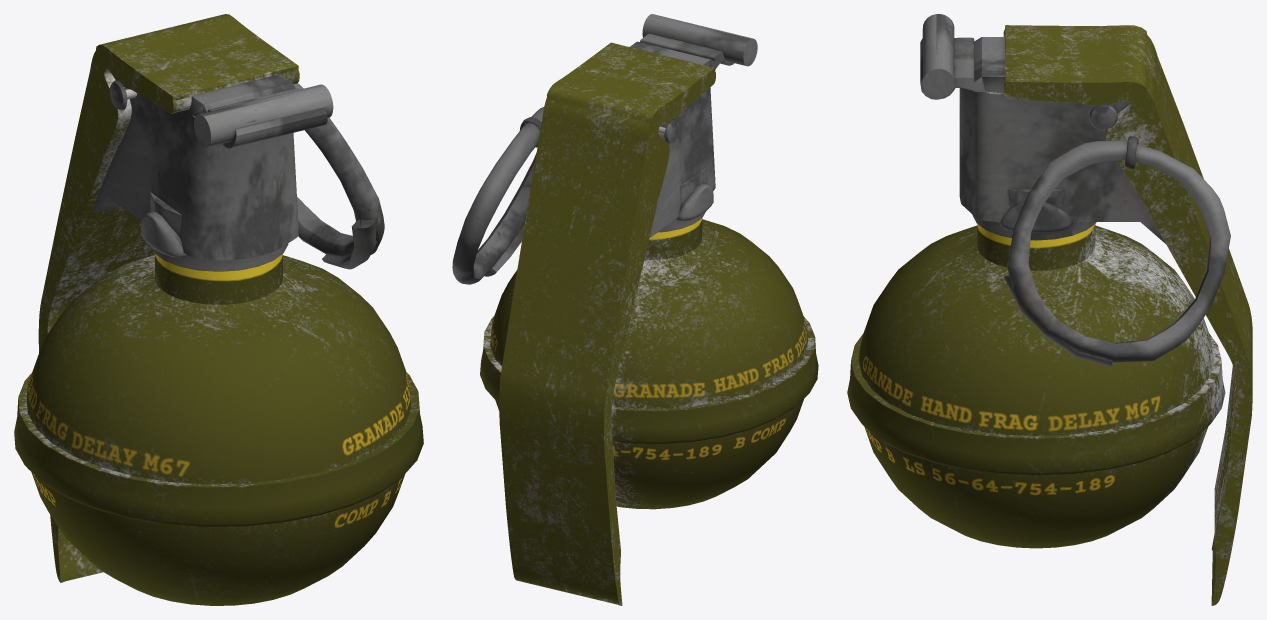
File: grenade.fbx
3 views of the same model, side by side, from view 1: azimuth 30°, elevation 25°; view 2: azimuth 150°, elevation 25°; view 3: azimuth 270°, elevation 25° (orthographic). The views are drawn at different scales.
Visible parts, largest first — view 1: P01_Body, P04_Lever, P03_Cap, P05_Ring, P06_Hinge_Pin, P02_Collar; view 2: P04_Lever, P01_Body, P05_Ring, P03_Cap, P06_Hinge_Pin, P02_Collar; view 3: P01_Body, P04_Lever, P03_Cap, P05_Ring, P06_Hinge_Pin, P02_Collar.
Part boxes in pixels (box(x1,y1,x2,y2)): P01_Body: box(14, 254, 423, 605); P04_Lever: box(38, 14, 299, 582); P03_Cap: box(91, 74, 327, 260); P05_Ring: box(293, 83, 384, 269); P06_Hinge_Pin: box(109, 80, 333, 147); P02_Collar: box(141, 192, 288, 271); P04_Lever: box(499, 42, 715, 605); P01_Body: box(480, 218, 818, 509); P05_Ring: box(452, 107, 543, 284); P03_Cap: box(630, 33, 734, 237); P06_Hinge_Pin: box(519, 14, 757, 147); P02_Collar: box(657, 167, 713, 232); P01_Body: box(847, 224, 1225, 548); P04_Lever: box(1003, 25, 1252, 605); P03_Cap: box(920, 37, 1165, 243); P05_Ring: box(1003, 140, 1230, 367); P06_Hinge_Pin: box(922, 14, 1138, 169); P02_Collar: box(972, 189, 1096, 240).
Bounding box in the file's own units: 0.7477 × 1.16 × 0.8017.
6 materials, 6 textured.
